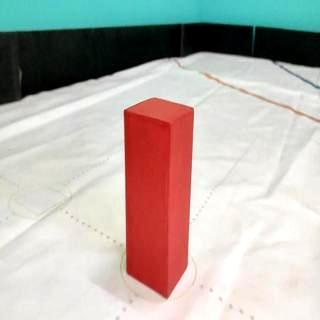redbox: (122, 96, 196, 299)
